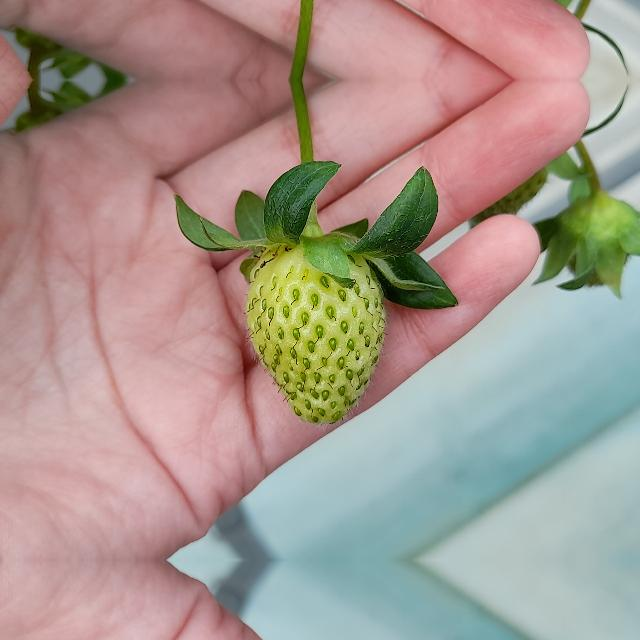Health_25: (245, 243, 385, 425)
